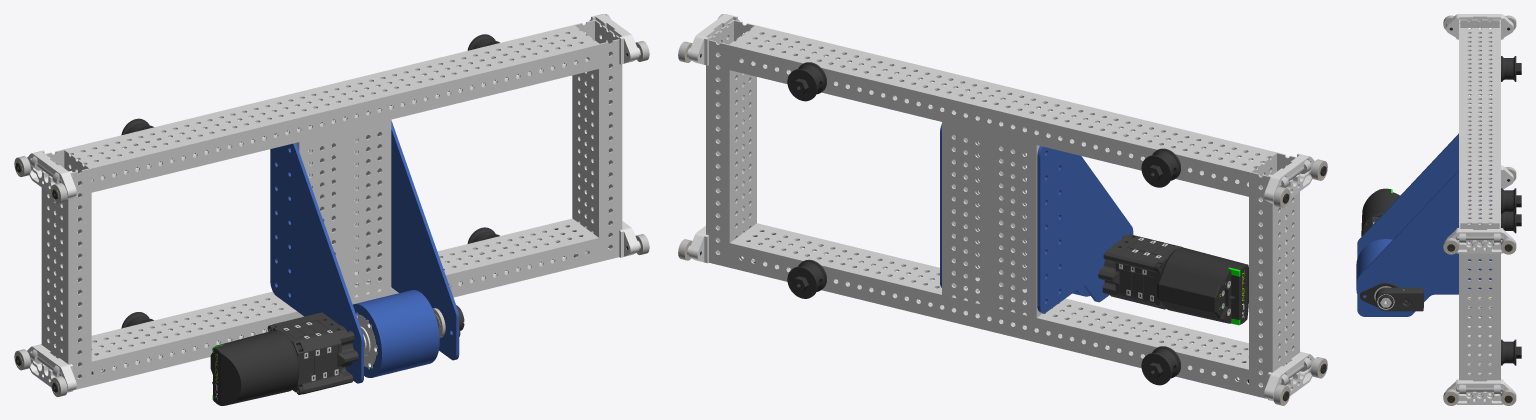
The picture shows the model from 3 angles, left to right: view 1: azimuth 30°, elevation 25°; view 2: azimuth 150°, elevation 25°; view 3: azimuth 270°, elevation 25°; orthographic projection. The views are drawn at different scales.
Visible parts, largest first — view 1: 2" x 1" x 0.0625" Aluminum Box Tube (22" L, Full Pattern, 0. (×2), 2" x 1" x 0.0625" Aluminum Box Tube (9" L, Full Pattern, 0.5 (×2), Part 10 (×2), 2" x 2" x 0.0625" Aluminum Box Tube (7" L, Full Pattern, 0.5 (×2), Kraken X60 Brushless Motor, Part 1, WCP-0897-001 Rev1 (×3), MAXPlanetary 4:1 Slice (×3), MAXPlanetary Output Slice, 1/2" Hex Hub (0.958" OD, 1.875" Bolt Circle, Legacy); view 2: 2" x 1" x 0.0625" Aluminum Box Tube (22" L, Full Pattern, 0. (×2), 2" x 1" x 0.0625" Aluminum Box Tube (9" L, Full Pattern, 0.5 (×2), 2" x 2" x 0.0625" Aluminum Box Tube (7" L, Full Pattern, 0.5 (×2), Part 10, Kraken X60 Brushless Motor, Dyneema Tensioning Cam (×4), WCP-0897-001 Rev1 (×3), MAXPlanetary 4:1 Slice (×3), MAXPlanetary Output Slice; view 3: Part 10 (×2), 2" x 1" x 0.0625" Aluminum Box Tube (22" L, Full Pattern, 0. (×2), 2" x 1" x 0.0625" Aluminum Box Tube (9" L, Full Pattern, 0.5 (×2), WCP-0897-001 Rev1 (×4), Dyneema Tensioning Cam (×4), WCP Through Bore Encoder, Kraken X60 Brushless Motor, 0.25" ID Bearing (0.75" OD, 0.281" WD, Shielded) (×4), Part 1, 1.125" OD Bearing Retention Plate (2" C-C), WCP-0897-002 Rev1.
Part boxes in pixels (x1=…): 2" x 1" x 0.0625" Aluminum Box Tube (22" L, Full Pattern, 0. (×2): x1=65, y1=25, x2=598, y2=385; 2" x 1" x 0.0625" Aluminum Box Tube (9" L, Full Pattern, 0.5 (×2): x1=41, y1=19, x2=622, y2=389; Part 10 (×2): x1=270, y1=109, x2=459, y2=383; 2" x 2" x 0.0625" Aluminum Box Tube (7" L, Full Pattern, 0.5 (×2): x1=272, y1=111, x2=391, y2=298; Kraken X60 Brushless Motor: x1=210, y1=330, x2=299, y2=405; Part 1: x1=353, y1=290, x2=439, y2=377; WCP-0897-001 Rev1 (×3): x1=27, y1=14, x2=640, y2=392; MAXPlanetary 4:1 Slice (×3): x1=276, y1=315, x2=341, y2=393; MAXPlanetary Output Slice: x1=311, y1=312, x2=358, y2=384; 1/2" Hex Hub (0.958" OD, 1.875" Bolt Circle, Legacy): x1=356, y1=312, x2=377, y2=369; 2" x 1" x 0.0625" Aluminum Box Tube (22" L, Full Pattern, 0. (×2): x1=729, y1=25, x2=1275, y2=394; 2" x 1" x 0.0625" Aluminum Box Tube (9" L, Full Pattern, 0.5 (×2): x1=706, y1=20, x2=1299, y2=398; 2" x 2" x 0.0625" Aluminum Box Tube (7" L, Full Pattern, 0.5 (×2): x1=942, y1=114, x2=1049, y2=317; Part 10: x1=1037, y1=137, x2=1133, y2=313; Kraken X60 Brushless Motor: x1=1157, y1=247, x2=1248, y2=325; Dyneema Tensioning Cam (×4): x1=787, y1=62, x2=1180, y2=385; WCP-0897-001 Rev1 (×3): x1=687, y1=14, x2=1314, y2=401; MAXPlanetary 4:1 Slice (×3): x1=1115, y1=237, x2=1175, y2=307; MAXPlanetary Output Slice: x1=1098, y1=234, x2=1140, y2=299; Part 10 (×2): x1=1357, y1=133, x2=1491, y2=316; 2" x 1" x 0.0625" Aluminum Box Tube (22" L, Full Pattern, 0. (×2): x1=1459, y1=28, x2=1500, y2=374; 2" x 1" x 0.0625" Aluminum Box Tube (9" L, Full Pattern, 0.5 (×2): x1=1459, y1=19, x2=1500, y2=394; WCP-0897-001 Rev1 (×4): x1=1446, y1=14, x2=1513, y2=404; Dyneema Tensioning Cam (×4): x1=1501, y1=56, x2=1521, y2=365; WCP Through Bore Encoder: x1=1375, y1=287, x2=1423, y2=311; Kraken X60 Brushless Motor: x1=1361, y1=188, x2=1399, y2=236; 0.25" ID Bearing (0.75" OD, 0.281" WD, Shielded) (×4): x1=1443, y1=238, x2=1516, y2=405; Part 1: x1=1356, y1=239, x2=1392, y2=296; 1.125" OD Bearing Retention Plate (2" C-C): x1=1360, y1=282, x2=1408, y2=306; WCP-0897-002 Rev1: x1=1456, y1=235, x2=1503, y2=240.
Size of the model in its own units: 0.6512 by 0.2426 by 0.2013.
